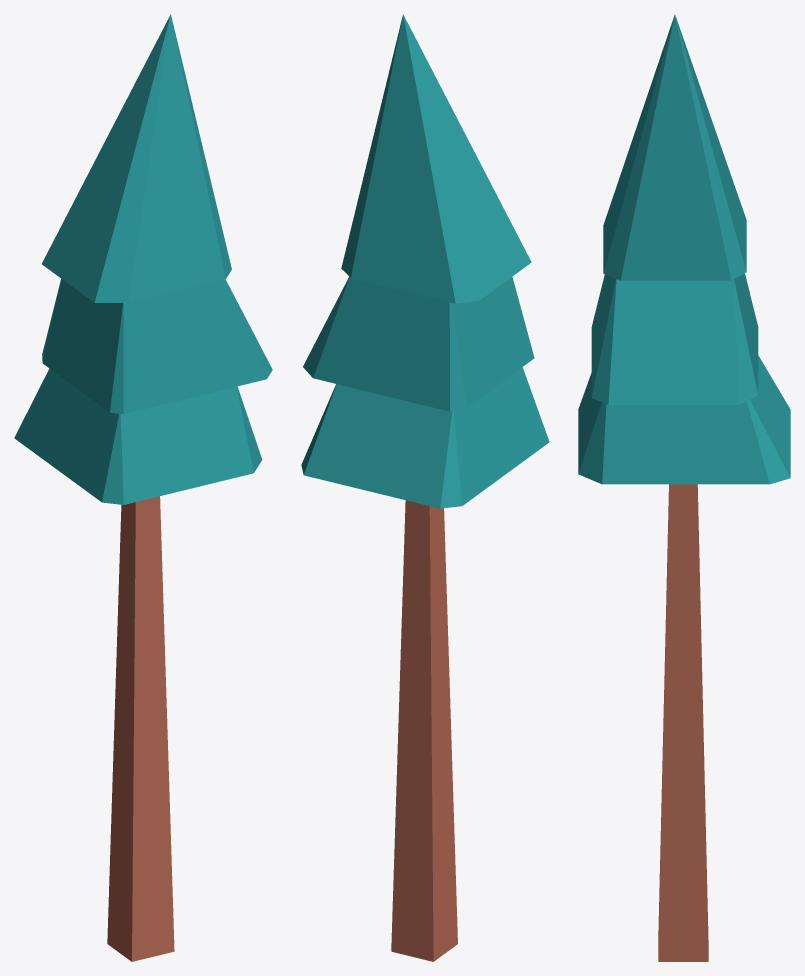
The model's file is tree_pineTallB.dae.
The picture shows the model from 3 angles, left to right: view 1: azimuth 30°, elevation 25°; view 2: azimuth 150°, elevation 25°; view 3: azimuth 270°, elevation 25°; orthographic projection. The views are drawn at different scales.
Parts seen in each view (by area): view 1: tree_pineTallB; view 2: tree_pineTallB; view 3: tree_pineTallB.
Boxes of the visible parts, x1,y1,x2,y2 form: tree_pineTallB: [14, 14, 272, 961]; tree_pineTallB: [301, 14, 549, 961]; tree_pineTallB: [578, 14, 790, 961].
Size of the model in its own units: 0.3863 by 1.93 by 0.392.
